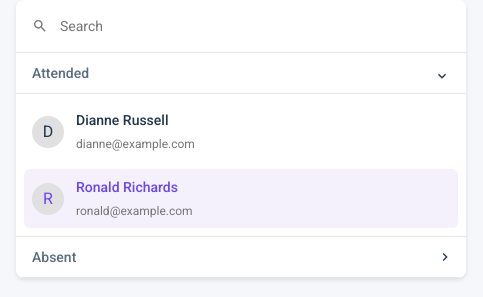
Test case: List Component › variant prop › filters items based on search term with subtitle variant
Type "dianne@" into the field with placeholder "Search" at coordinates (218, 26), box [32,16,404,36]
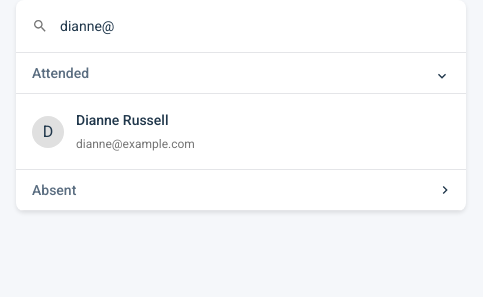
Check: the text "Dianne Russell" is shown, box [76,112,168,128]
Check: the text "Ronald Richards" is gone
Clear the field with placeholder "Search" at coordinates (218, 26), box [32,16,404,36]
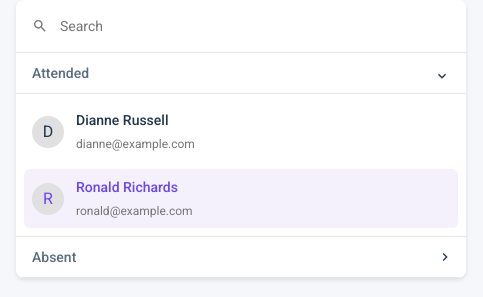
Check: the text "Dianne Russell" is shown, box [76,112,168,128]
Check: the text "Ronald Richards" is shown, box [76,179,178,195]
